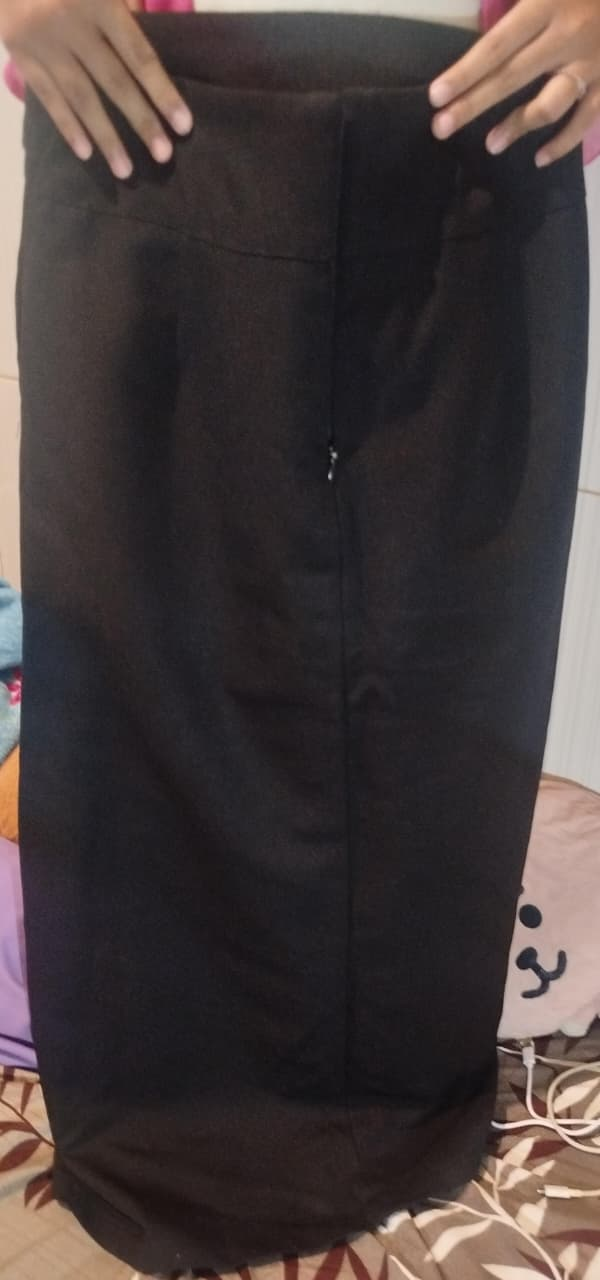rok_benar: (30, 51, 540, 1155)
